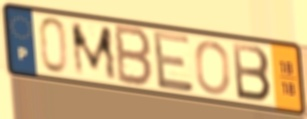0: (36, 15, 71, 77)
B: (230, 41, 274, 105), (113, 22, 154, 90)
E: (150, 29, 196, 95)
M: (68, 21, 120, 82)
O: (193, 39, 232, 97)
